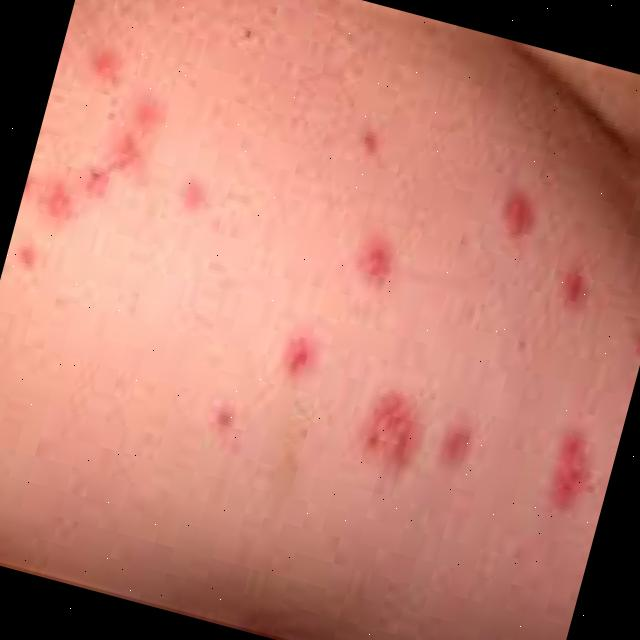tahta-kurusu: (49, 39, 292, 280), (503, 428, 617, 539), (465, 187, 559, 295), (351, 379, 439, 485), (334, 224, 412, 319), (322, 116, 396, 200), (269, 326, 349, 401), (427, 412, 487, 477), (543, 254, 591, 327)
